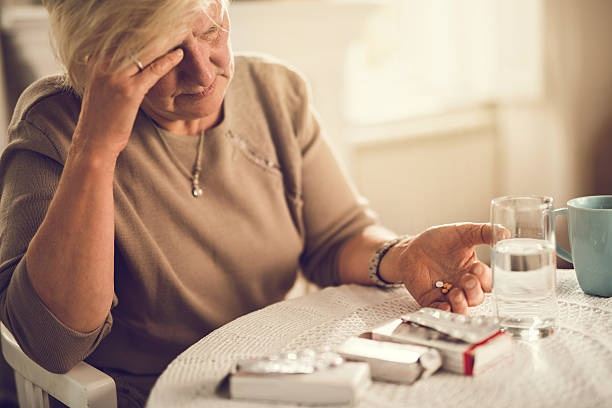pills: (433, 279, 450, 296)
